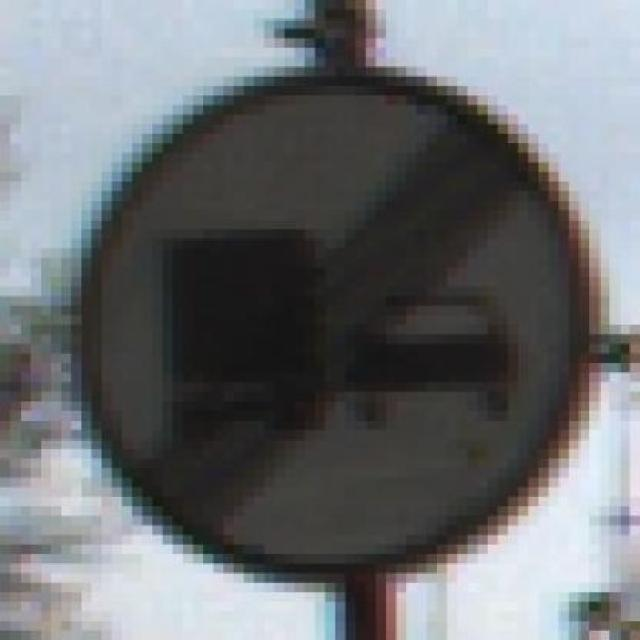Overtaking by trucks is prohibited: (61, 38, 630, 612)
